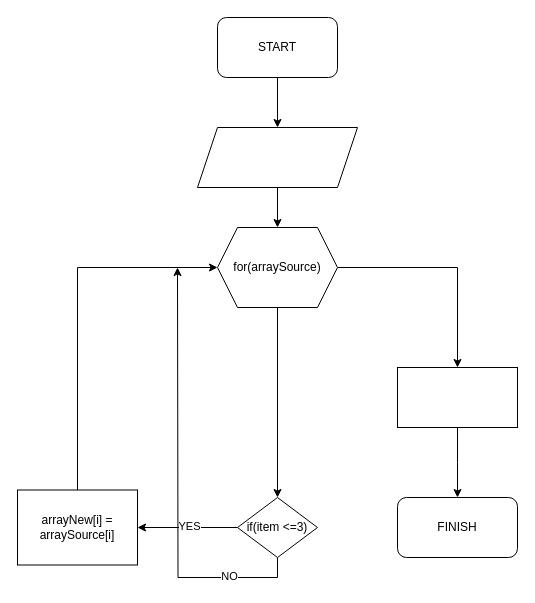
Image size: 535x603. Some labels were removed from this diagram. The shapes that lost their labels are listed below. From the top down, each one's centre as x and y in pixels, then its label:
point 277,157: string[] arraySource
point 457,397: print(newArray)
